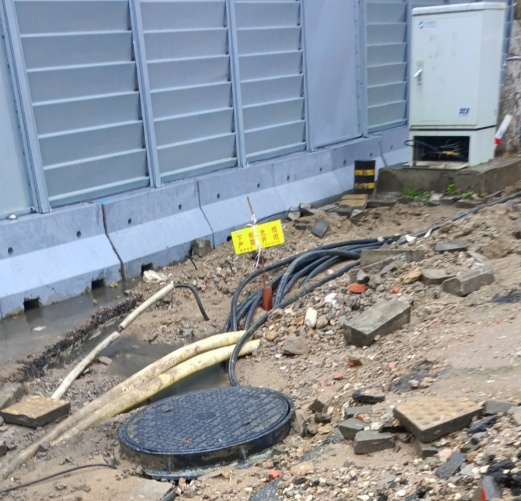good: (118, 388, 296, 458)
